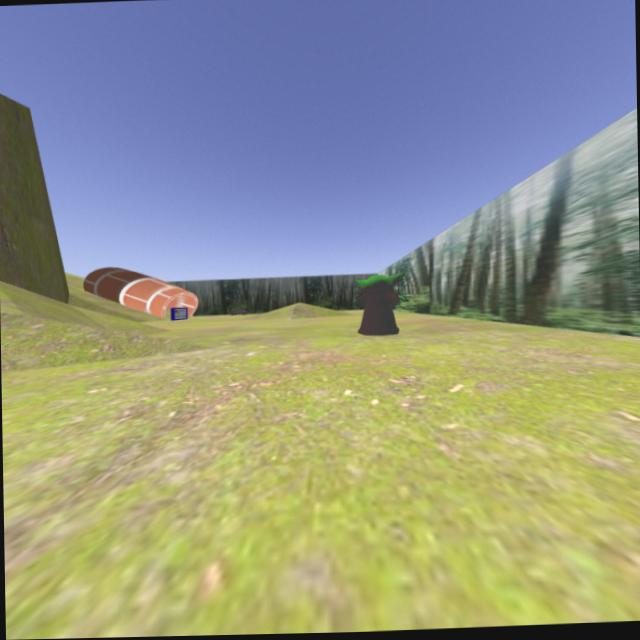yoda: (349, 270, 402, 337)
